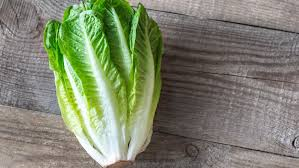lettuce: (52, 10, 169, 158)
